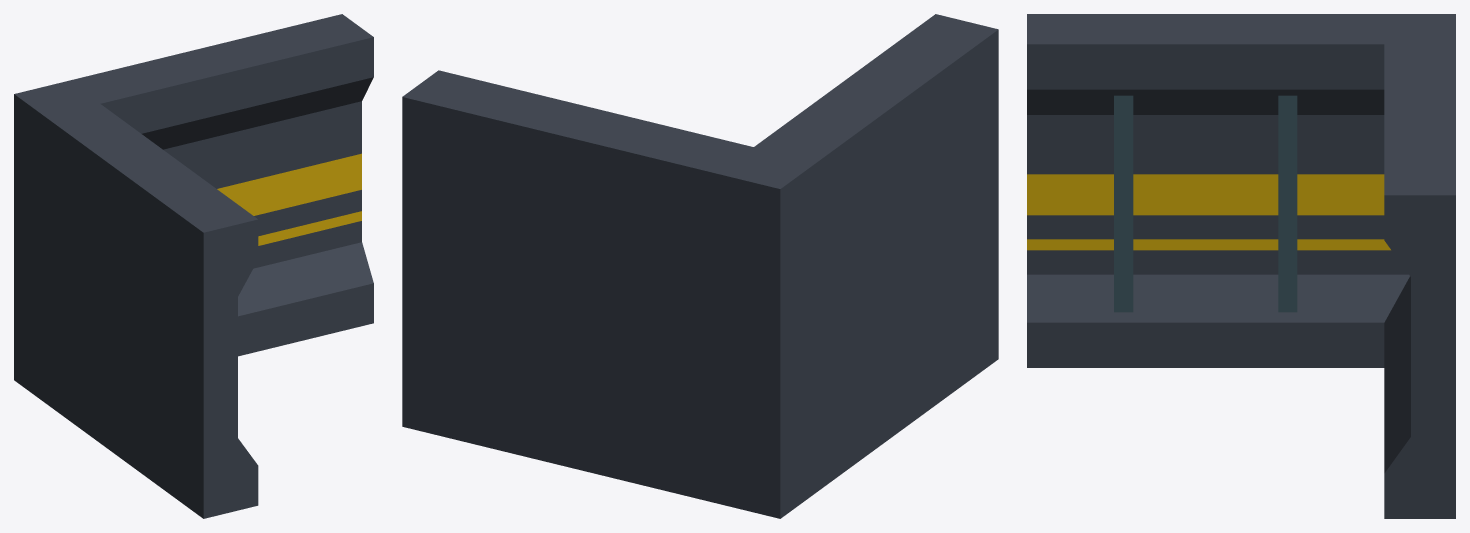
Rendered from Sci-fi_wall_corner_in.fbx.
The picture shows the model from 3 angles, left to right: view 1: azimuth 30°, elevation 25°; view 2: azimuth 150°, elevation 25°; view 3: azimuth 270°, elevation 25°; orthographic projection. The views are drawn at different scales.
Visible parts, largest first — view 1: Sci-fi_wall.005; view 2: Sci-fi_wall.005; view 3: Sci-fi_wall.005.
Boxes of the visible parts, x1=… form: Sci-fi_wall.005: x1=14, y1=14, x2=373, y2=518; Sci-fi_wall.005: x1=402, y1=14, x2=998, y2=518; Sci-fi_wall.005: x1=1027, y1=14, x2=1455, y2=518.
Bounding box in the file's own units: 2.4 × 2 × 2.4.
